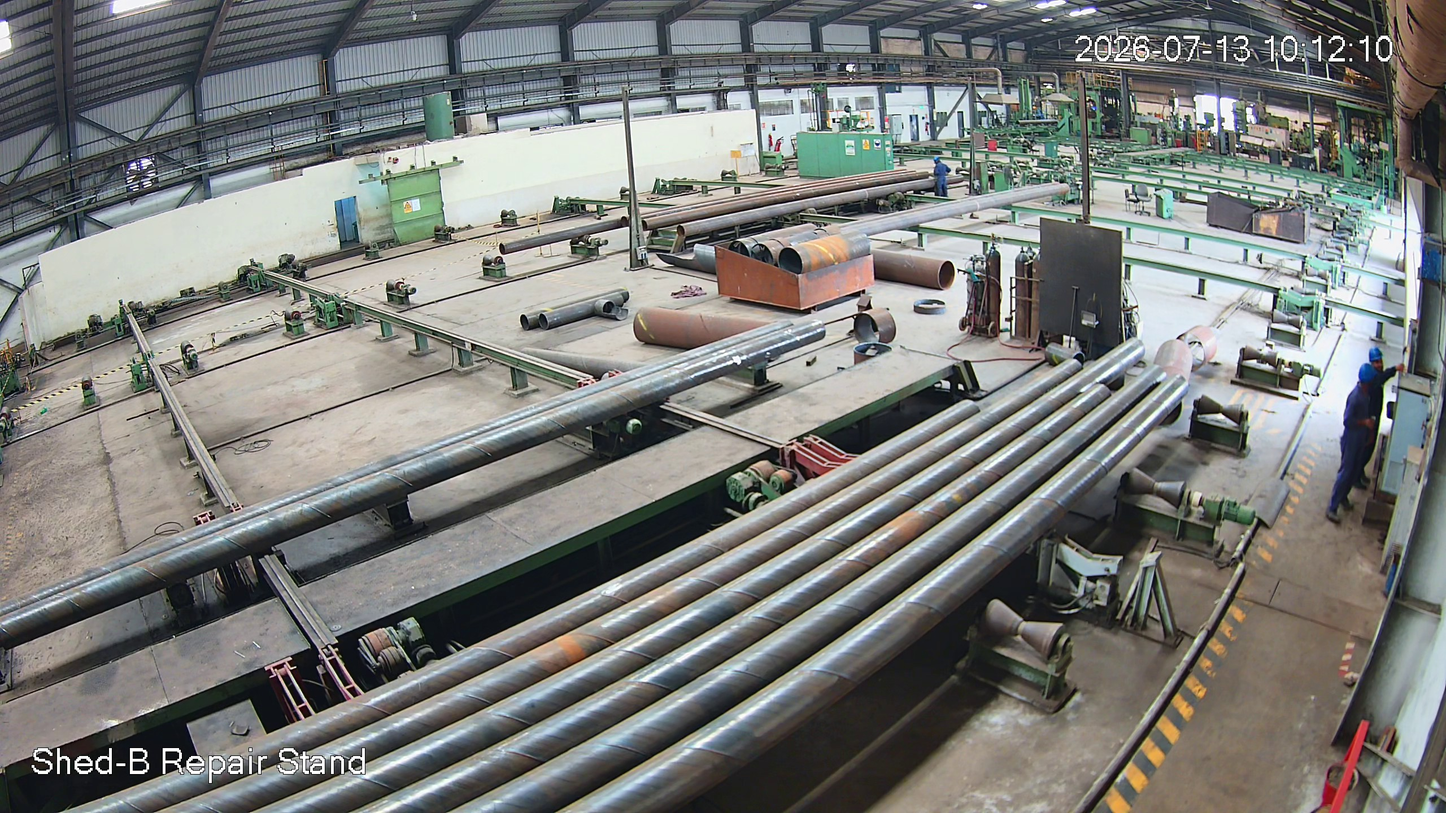Helmet: (1354, 358, 1376, 396)
Person: (1323, 364, 1384, 530)
